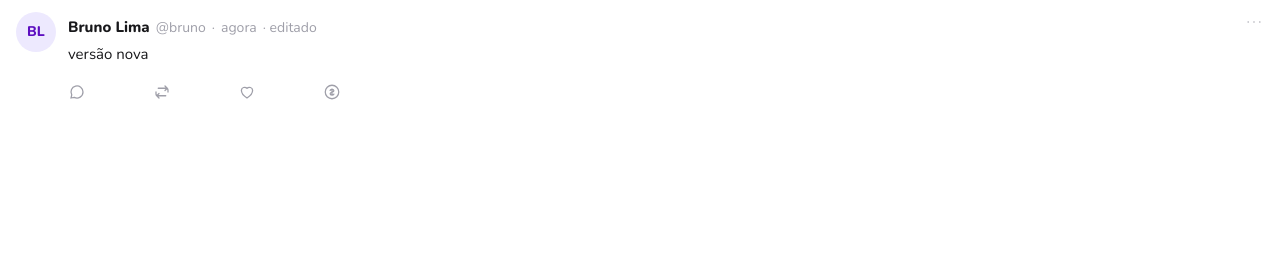
it: editar post › sem permissão (prazo, outra pessoa) não aparece "Editar"; post editado mostra o selo e o histórico
Click the button "· editado" at (290, 28), box [263,18,317,38]
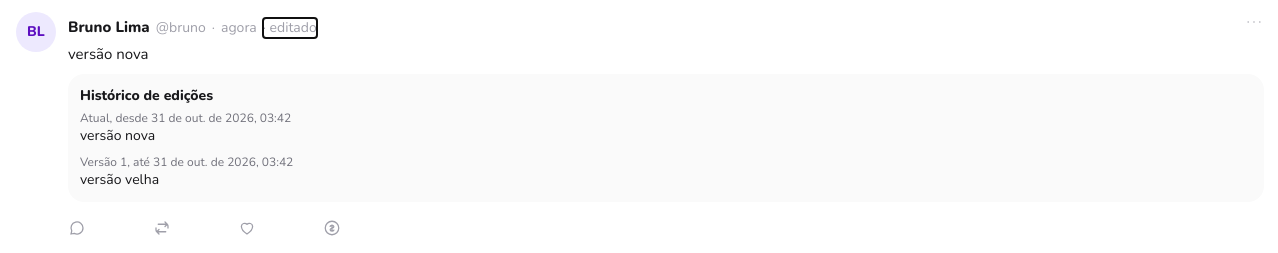
Check: the text "versão velha" is shown, box [80,170,159,189]
Check: the text "Versão 1, até 31 de out. de 2026, 03:42" is shown, box [80,154,293,170]
